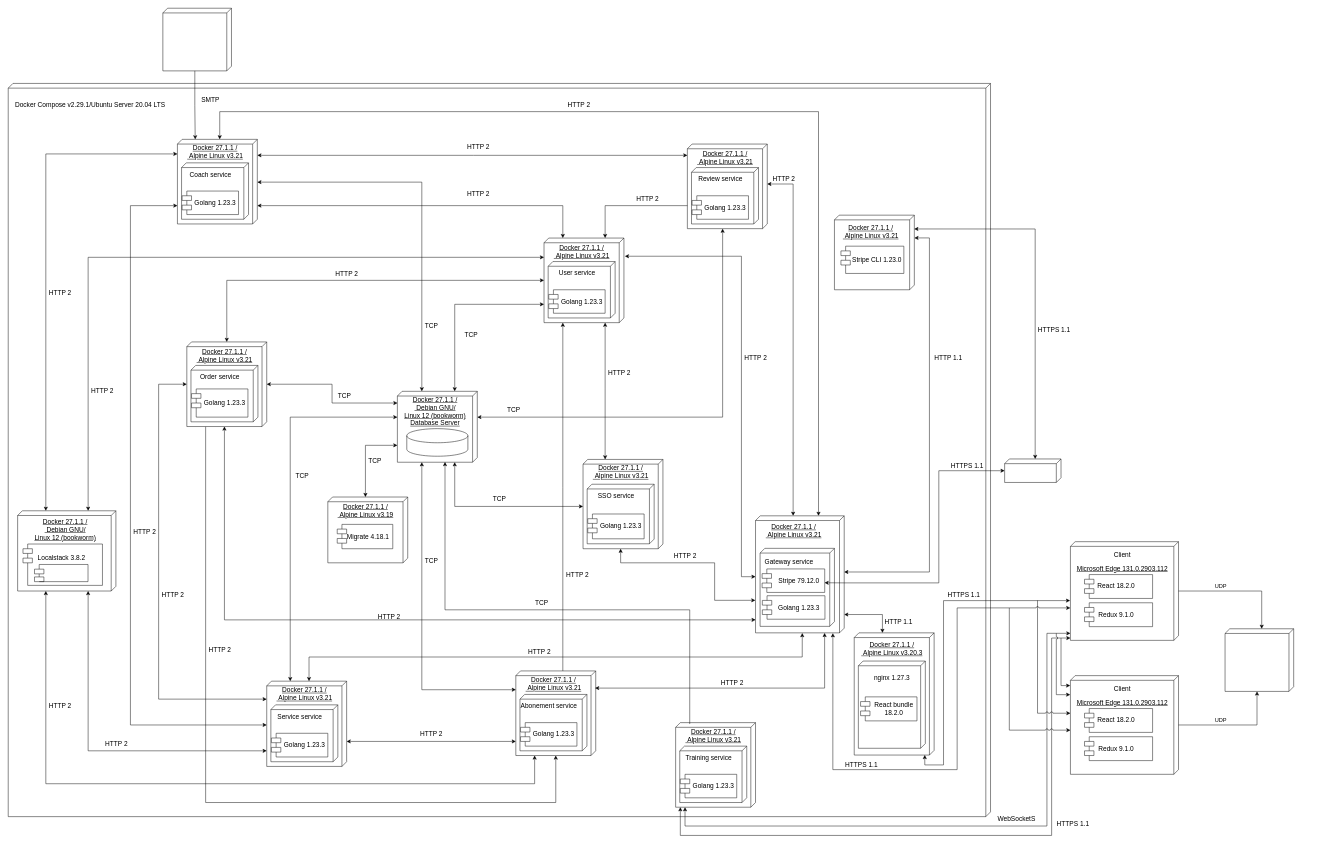
Image size: 1327x852. Some labels were removed from this diagram. Each missing label, with the centre of its shape:
"Google Stun Server" belongs at [1259,659].
"PostgreSQL 17" belongs at [437,442].
"S3" belongs at [61,573].
"SMTP Server" belongs at [196,39].
"StripeAPI" belongs at [1032,470].
